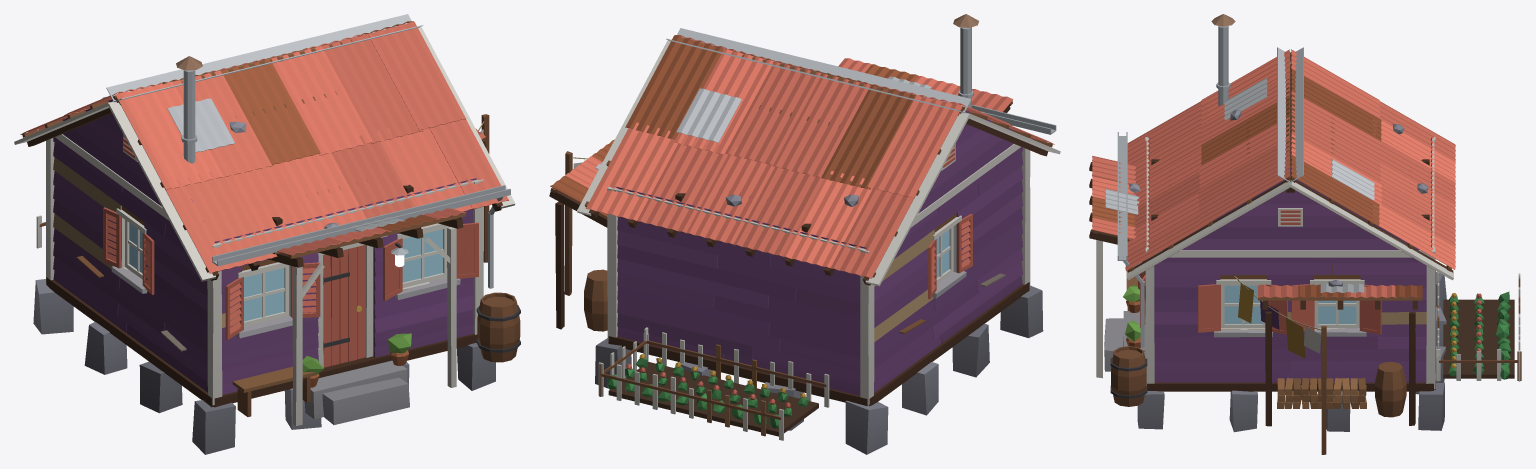
The picture shows the model from 3 angles, left to right: view 1: azimuth 30°, elevation 25°; view 2: azimuth 150°, elevation 25°; view 3: azimuth 270°, elevation 25°; orthographic projection. The views are drawn at different scales.
Parts seen in each view (by area): view 1: H17_ROOF, H17_WALL_E, H17_WALL_S, H17_BASE, H17_DOOR_main, H17_WALL_N; view 2: H17_ROOF, H17_WALL_W, H17_WALL_S, H17_BASE, H17_WALL_N, H17_WALL_E; view 3: H17_WALL_N, H17_ROOF, H17_WALL_E, H17_BASE, H17_WALL_W.
Part boxes in pixels (<box>): H17_ROOF: <box>14,14,515,281</box>; H17_WALL_E: <box>211,178,520,425</box>; H17_WALL_S: <box>46,90,220,396</box>; H17_BASE: <box>33,277,495,454</box>; H17_DOOR_main: <box>323,245,365,367</box>; H17_WALL_N: <box>395,26,489,334</box>; H17_ROOF: <box>577,14,1060,286</box>; H17_WALL_W: <box>598,186,868,440</box>; H17_WALL_S: <box>860,110,1030,404</box>; H17_BASE: <box>595,282,1043,454</box>; H17_WALL_N: <box>549,139,617,337</box>; H17_WALL_E: <box>838,58,1056,287</box>; H17_WALL_N: <box>1145,165,1435,454</box>; H17_ROOF: <box>1125,14,1455,280</box>; H17_WALL_E: <box>1089,132,1154,406</box>; H17_BASE: <box>1104,271,1446,432</box>; H17_WALL_W: <box>1426,137,1521,389</box>.
Size of the model in its own units: 6.41 by 5.46 by 6.93.
